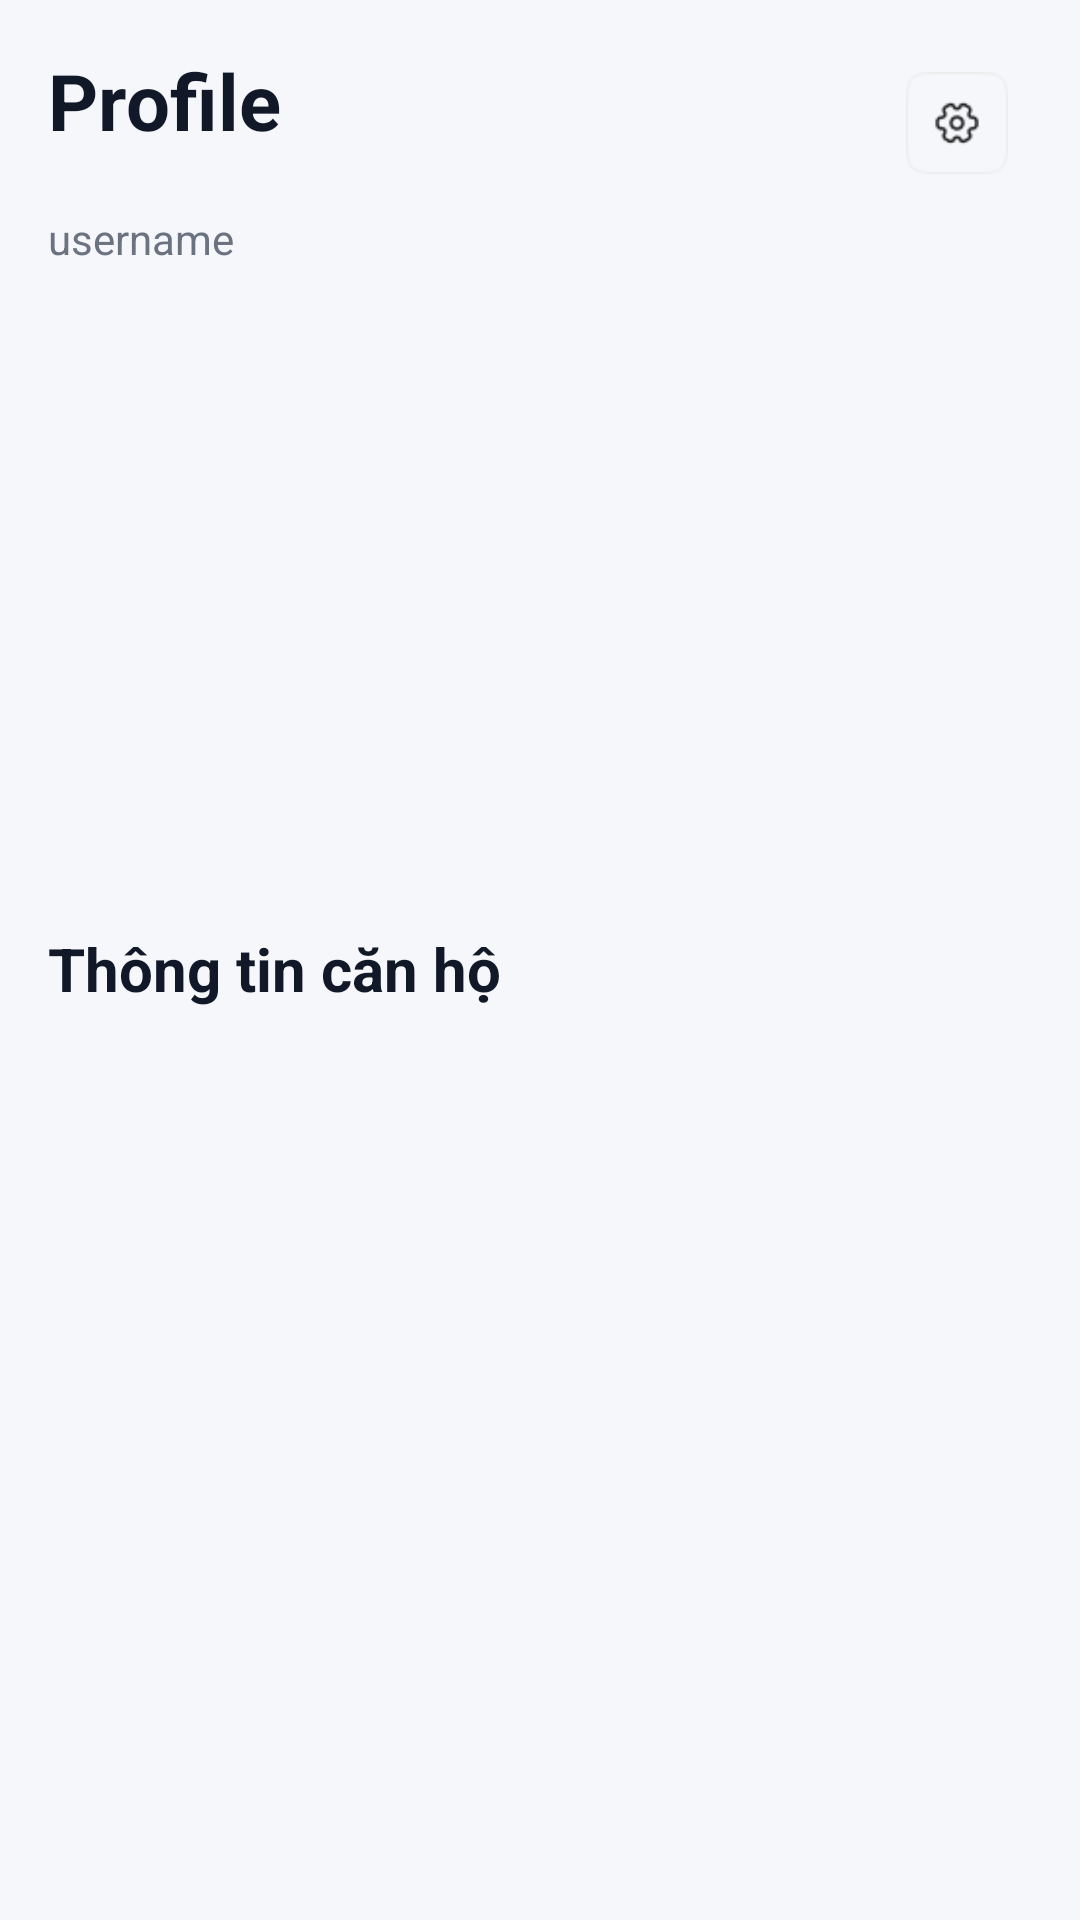

Screen size 1080x1920. Icon name, then its center in pixels as point (x, y):
setting: point (957, 123)
